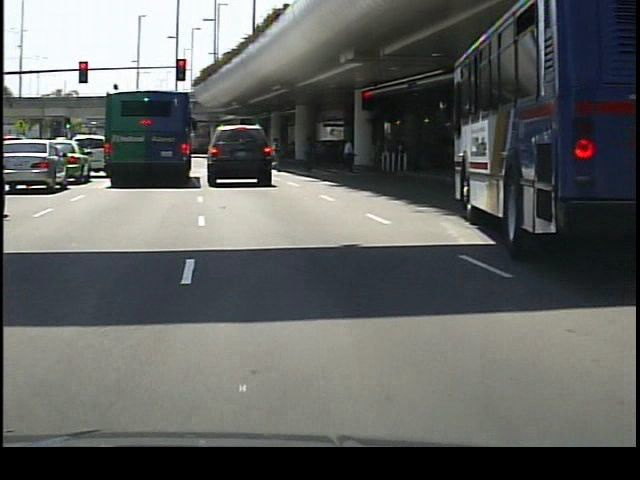person: (296, 132, 317, 176), (336, 134, 356, 172), (267, 133, 283, 174)
